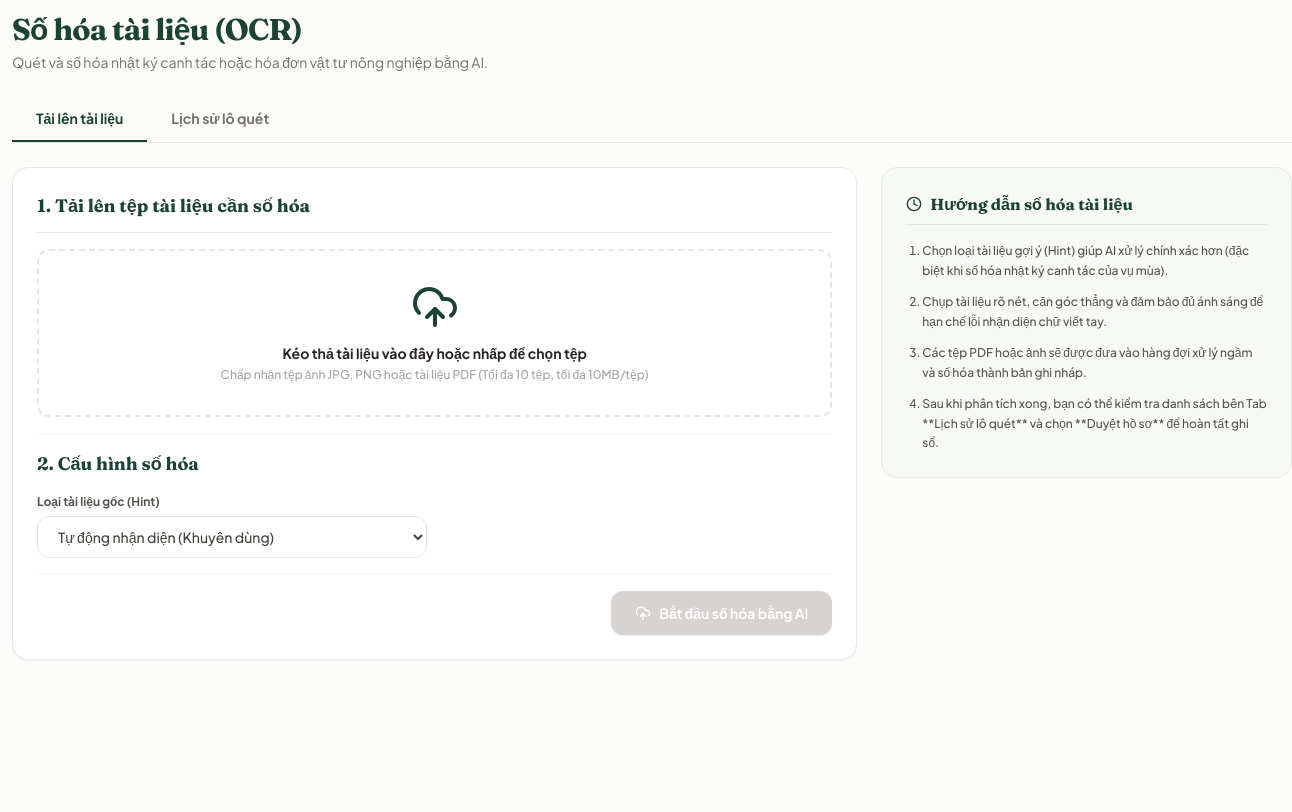
Scenario: OCR Module Integrated Flow › renders default Upload Tab, changes configurations, and submits
Expected: the heading "Số hóa tài liệu (OCR)" is shown, [12, 11, 302, 48]
Expected: the button "Tải lên tài liệu" is shown, [12, 96, 147, 142]
# Select FARMING_LOGBOOK document hint
Select "Số hóa nhật ký canh tác (FARMING_LOGBOOK)" in the dropdown labelled "Loại tài liệu gốc (Hint)" at (232, 537), box [37, 516, 427, 558]
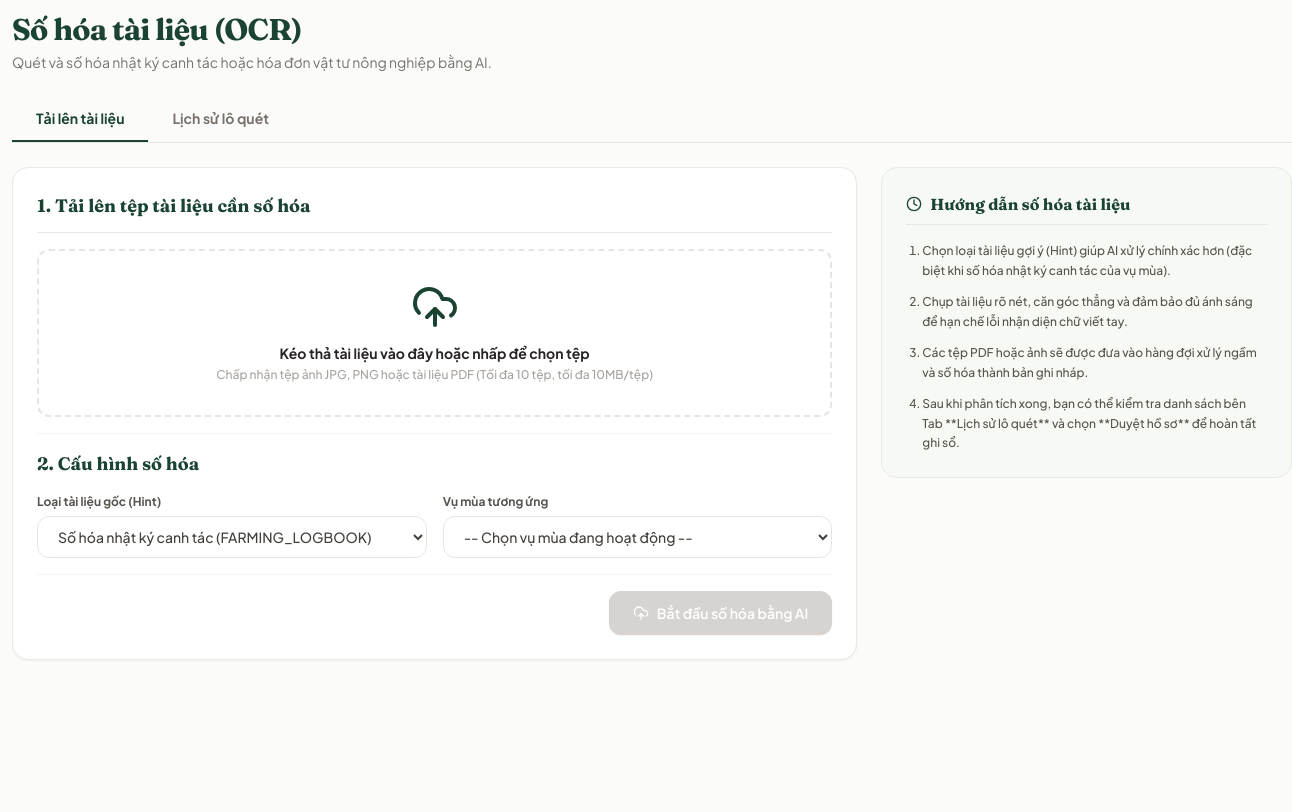
Result: the dropdown labelled "Vụ mùa tương ứng" is shown at [443, 516, 832, 558]
